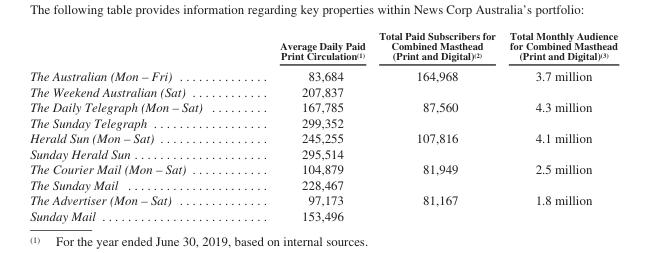table: (29, 29, 617, 222)
table column: (29, 29, 240, 222), (240, 29, 371, 222), (371, 29, 502, 222), (502, 29, 617, 222)
table column header: (29, 29, 617, 65)
table row: (29, 29, 617, 65), (29, 65, 617, 83), (29, 98, 617, 114), (29, 129, 617, 145), (29, 160, 617, 176), (29, 191, 617, 207), (29, 83, 617, 98), (29, 114, 617, 129), (29, 145, 617, 160), (29, 176, 617, 191), (29, 207, 617, 222)
